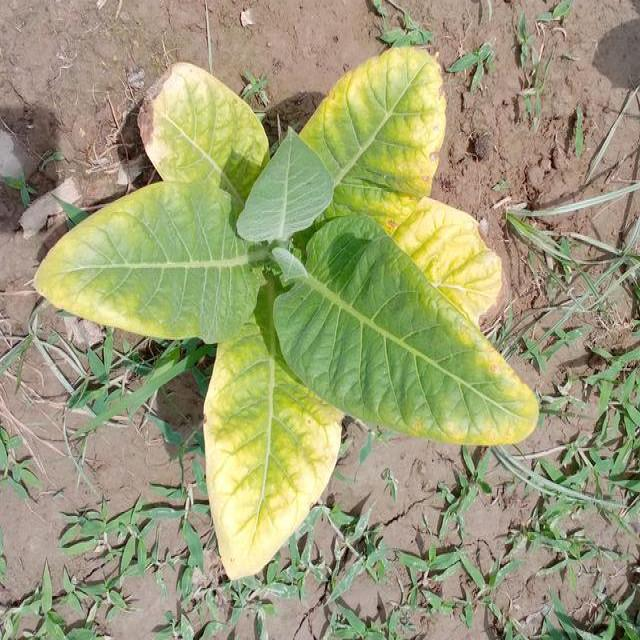crop: (38, 47, 544, 573)
